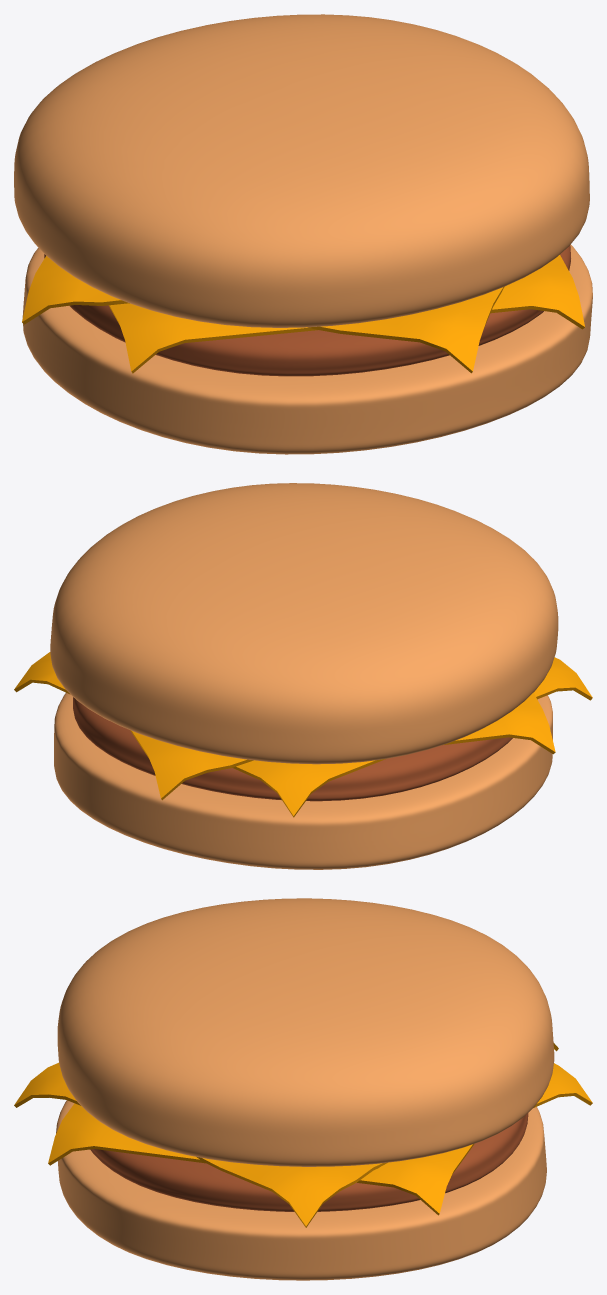
The model's file is hamburger.gltf.
The picture shows the model from 3 angles, top to bottom: view 1: azimuth 30°, elevation 25°; view 2: azimuth 150°, elevation 25°; view 3: azimuth 270°, elevation 25°; orthographic projection. The views are drawn at different scales.
Parts seen in each view (by area): view 1: Cube.002, Cube, Cube.001, Plane.001, Plane; view 2: Cube.002, Cube, Cube.001, Plane.001, Plane; view 3: Cube.002, Cube, Cube.001, Plane.001, Plane.
Part boxes in pixels (x1,y1,x2,y2): Cube.002: (14,14,589,327); Cube: (22,244,592,454); Cube.001: (44,245,570,376); Plane.001: (22,256,504,373); Plane: (108,255,584,373); Cube.002: (50,483,558,764); Cube: (54,692,552,869); Cube.001: (73,697,512,801); Plane.001: (130,692,555,800); Plane: (14,652,592,817); Cube.002: (57,898,554,1166); Cube: (56,1100,546,1280); Cube.001: (90,1113,528,1211); Plane.001: (14,1062,592,1227); Plane: (48,1043,558,1215).
Size of the model in its own units: 11.86 by 5.19 by 11.86.
